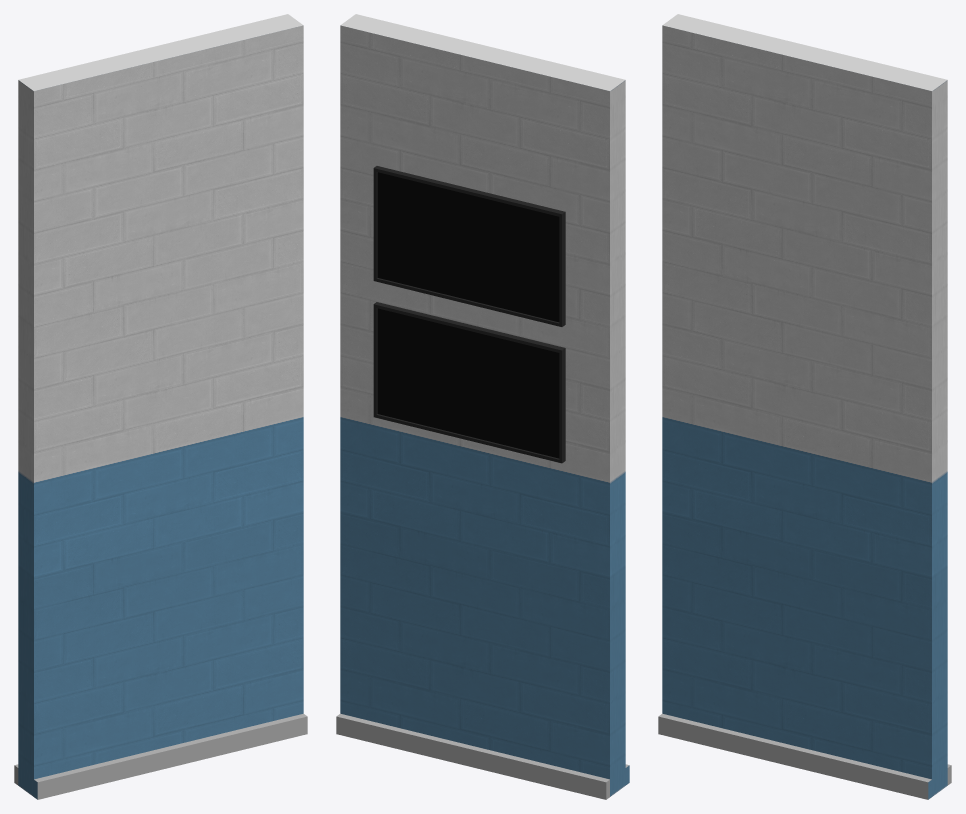
File: Wall_CCTV.fbx
The picture shows the model from 3 angles, left to right: view 1: azimuth 30°, elevation 25°; view 2: azimuth 150°, elevation 25°; view 3: azimuth 330°, elevation 25°; orthographic projection.
Visible parts, largest first — view 1: Wall022; view 2: Wall022, Box170, Box171; view 3: Wall022.
Boxes of the visible parts, bbox=[...] form: Wall022: bbox=[14, 14, 307, 799]; Wall022: bbox=[336, 14, 629, 799]; Box170: bbox=[373, 166, 565, 326]; Box171: bbox=[373, 302, 565, 463]; Wall022: bbox=[658, 14, 951, 799].
Bounding box in the file's own units: 1 × 2.5 × 0.15.
6 materials, 2 textured.
